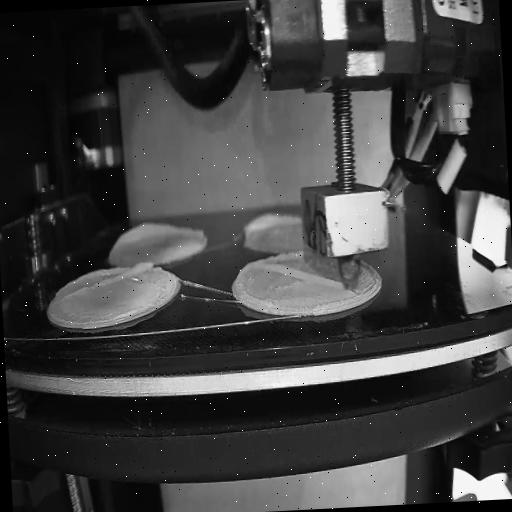over_extrusion: (63, 258, 154, 302), (250, 254, 344, 294), (112, 214, 207, 250), (241, 208, 304, 242)
